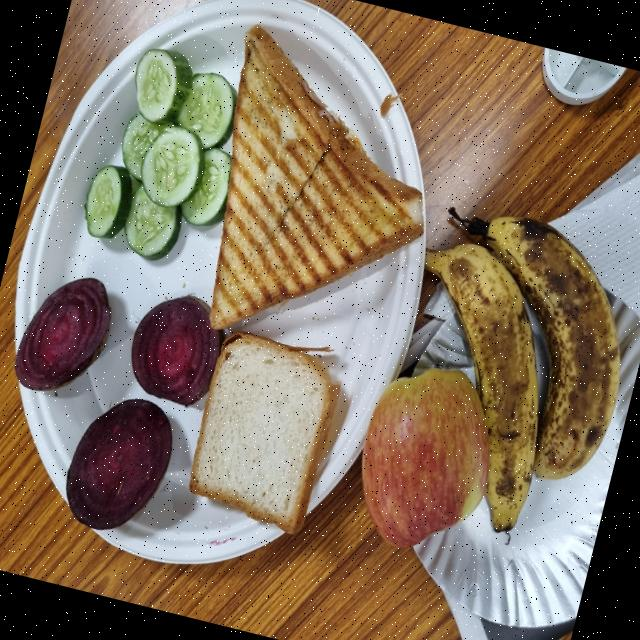apple: (359, 365, 488, 544)
banana: (468, 213, 621, 478), (426, 216, 543, 531)
cucumber: (139, 124, 201, 205), (172, 68, 235, 147), (178, 144, 231, 233), (81, 162, 139, 238), (135, 45, 189, 124), (122, 183, 177, 260), (120, 113, 163, 175)
